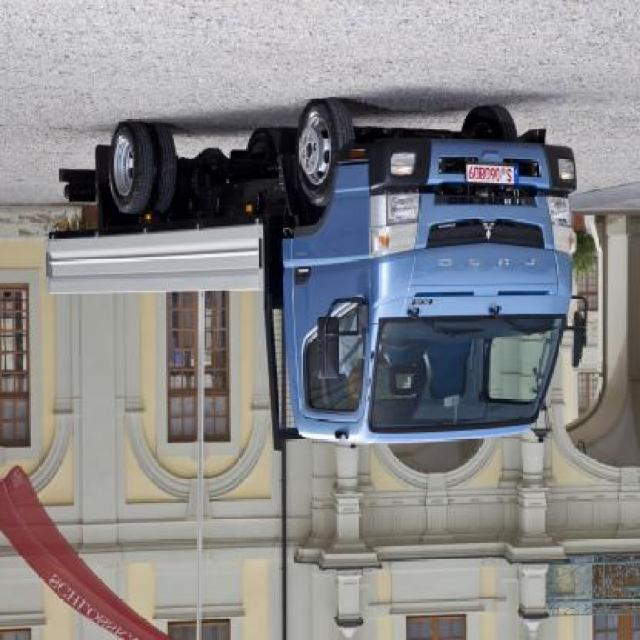truck: (47, 106, 592, 455)
